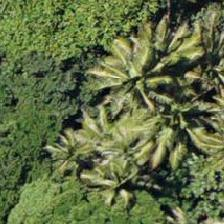coconut_tree: (114, 37, 204, 127), (80, 98, 170, 188)
